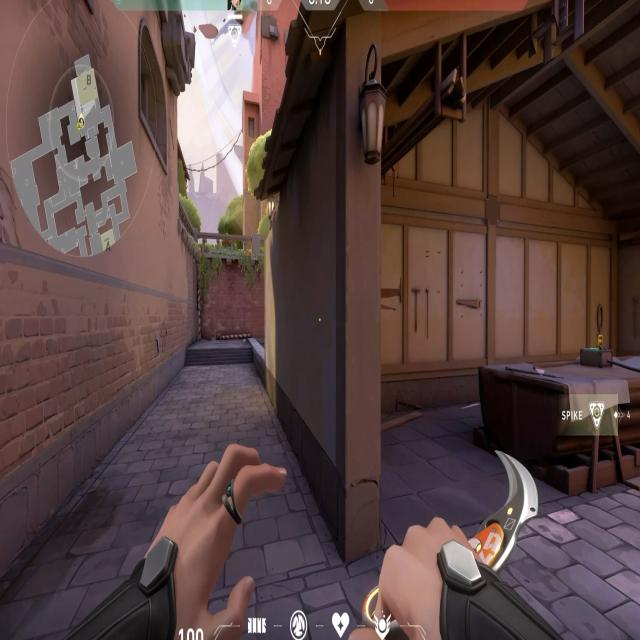B_Garage_Left: (344, 33, 534, 558)
Throwables: (137, 15, 170, 183)
